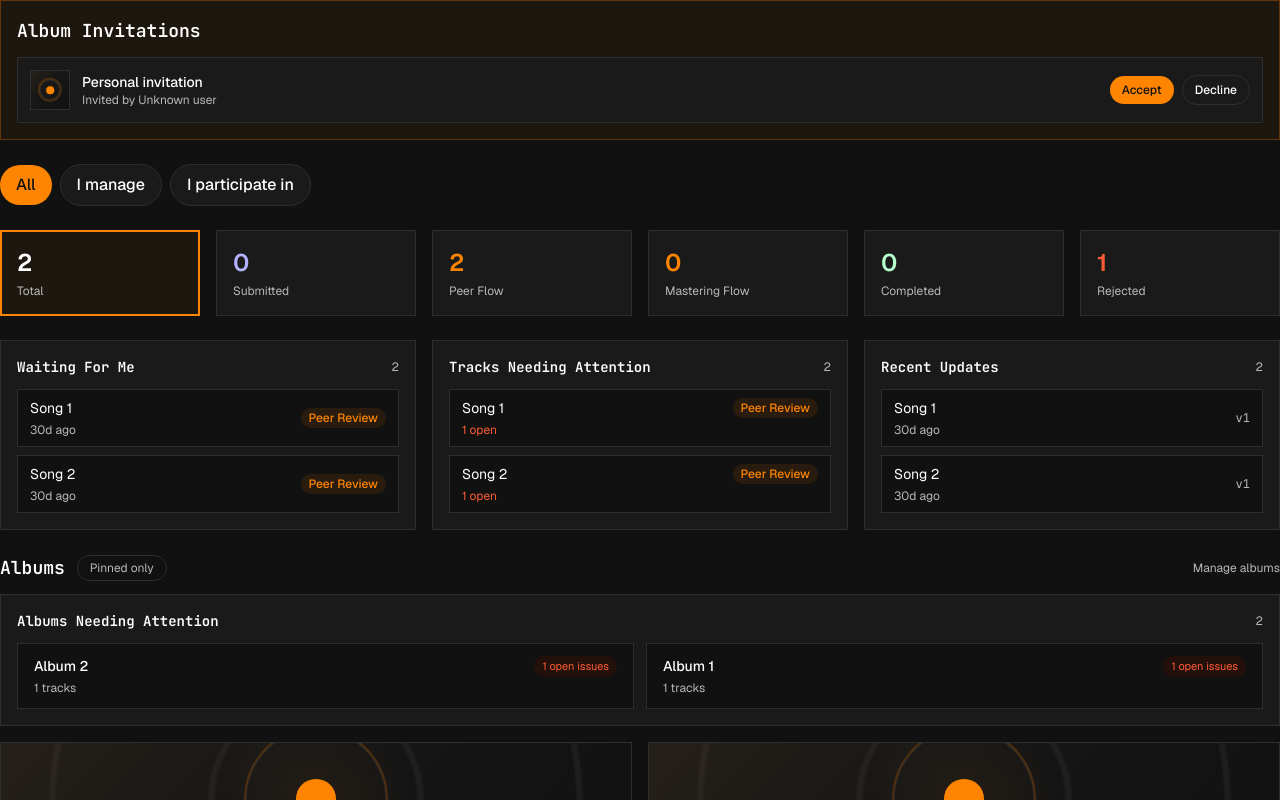
Test case: Dashboard personal scope › intersects pinned albums with scope without filtering track statistics
Click the button "Pinned only" at (122, 568), box x1=77 y1=555 x2=167 y2=581
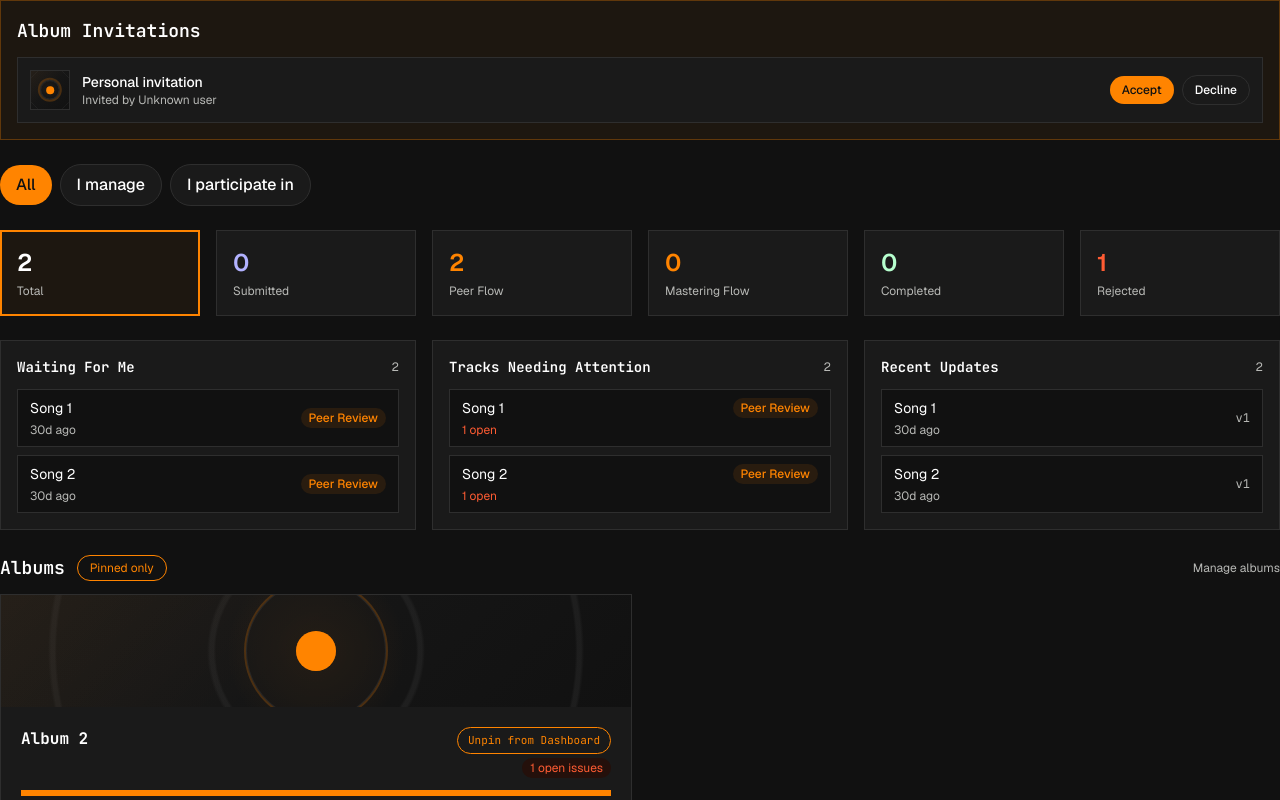
Expected: the heading "Album 2" is shown, x1=21 y1=728 x2=88 y2=749
Expected: the heading does not show "Album 1"
Click the button "I manage" at (111, 185), box x1=60 y1=164 x2=162 y2=206
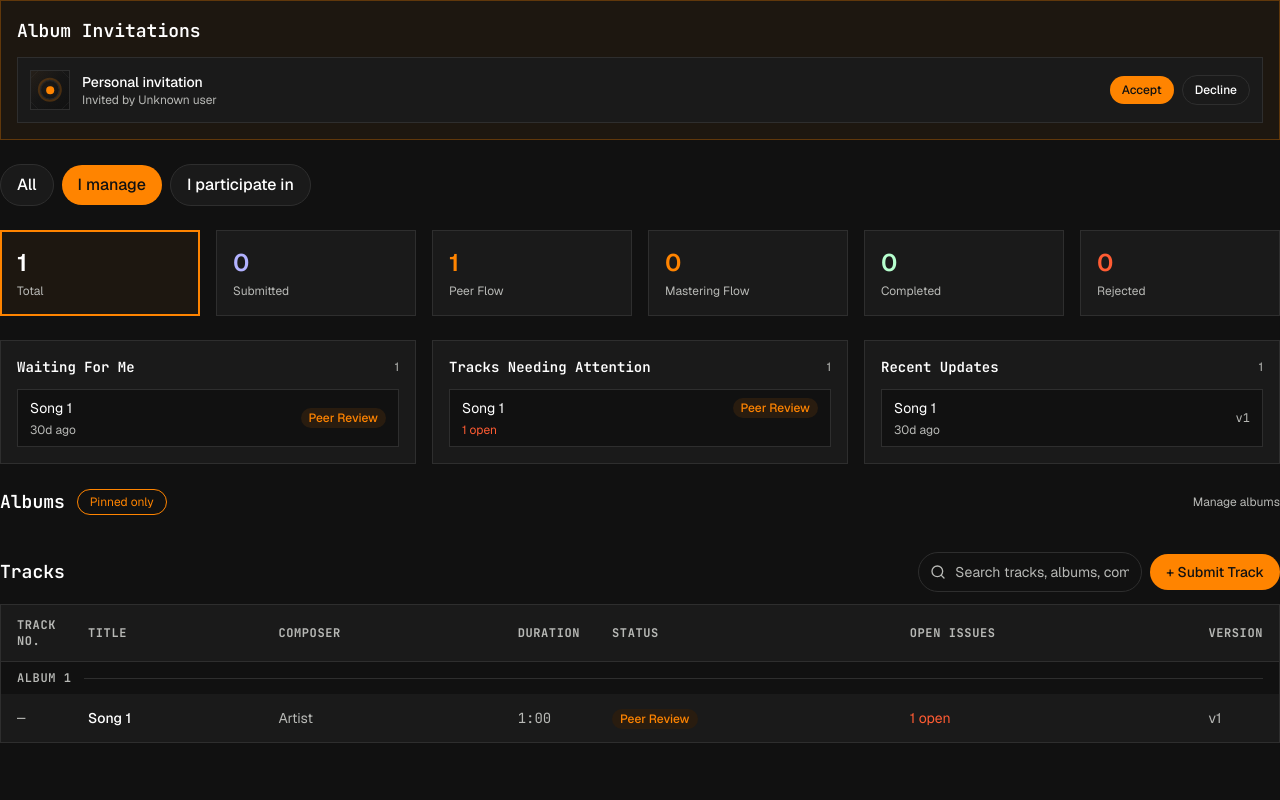
Expected: the heading does not show "Album 1"
Expected: the heading "Album 2" no longer shows "Album 2"
Expected: the 1st text "1" is shown, x1=17 y1=247 x2=27 y2=278
